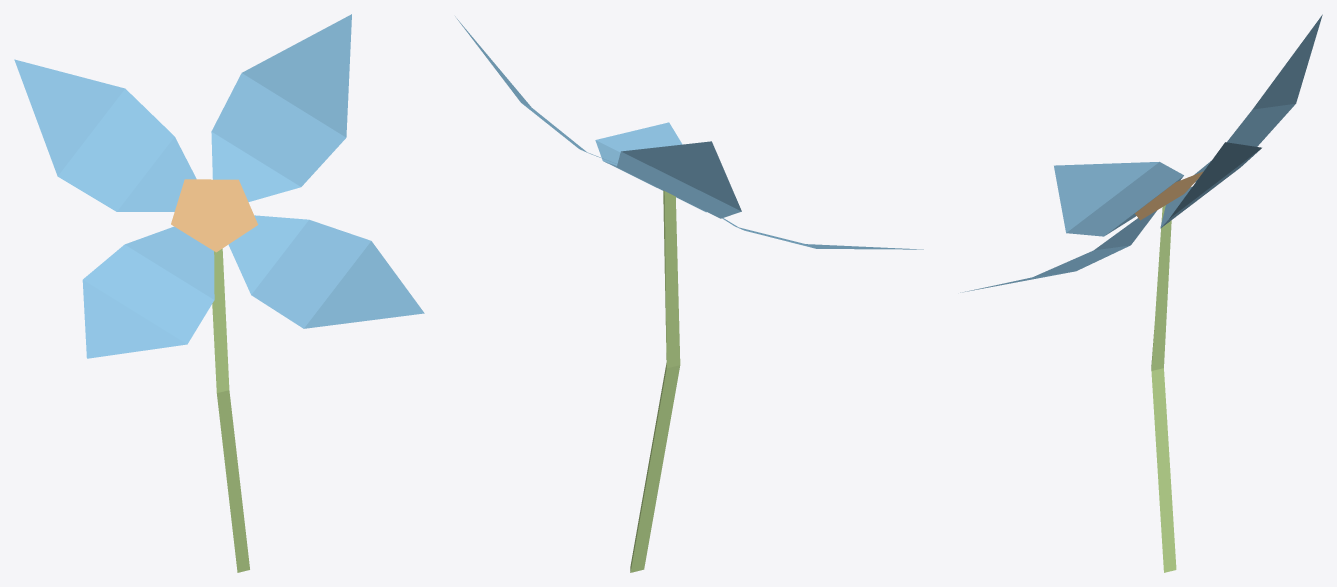
The model's file is Flower_a_OneS_04.fbx.
3 renders of one model, left to right at view 1: azimuth 30°, elevation 25°; view 2: azimuth 150°, elevation 25°; view 3: azimuth 270°, elevation 25°, orthographic. The views are drawn at different scales.
Parts seen in each view (by area): view 1: Flower_a_OneS_04; view 2: Flower_a_OneS_04; view 3: Flower_a_OneS_04.
Boxes of the visible parts, left/top/right/bottom form: Flower_a_OneS_04: left=14, top=14, right=424, bottom=572; Flower_a_OneS_04: left=455, top=16, right=923, bottom=572; Flower_a_OneS_04: left=960, top=14, right=1322, bottom=572.
Bounding box in the file's own units: 48.22 × 65.56 × 44.03.
